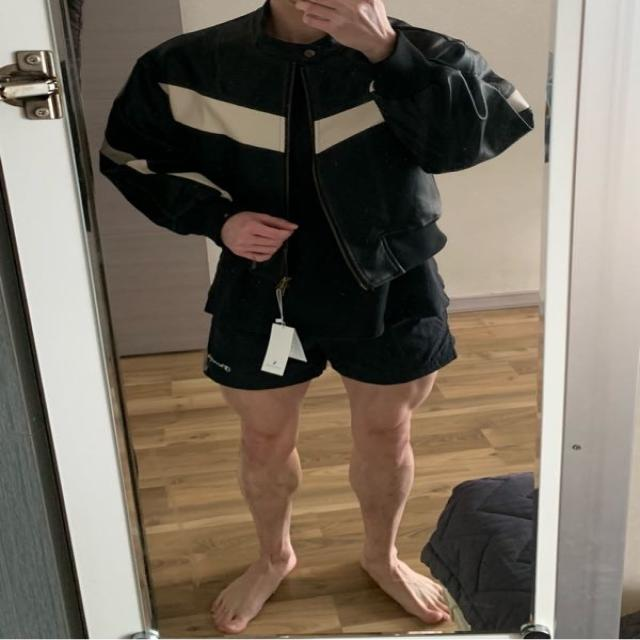jacket: (99, 0, 543, 304)
shortpants: (203, 298, 457, 390)
